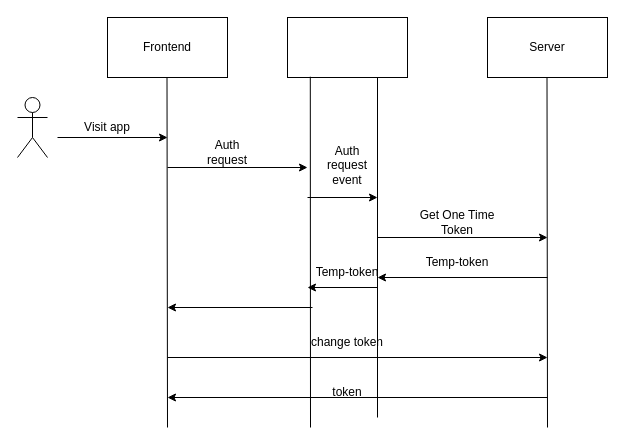
The diagram is 625 pixels wide and 446 high, and some of its shapes have lost their labels. The box of each missing label's shape, as (x1, y1, x2, y2) in pixels:
Actor: (16, 96, 48, 158)
Google ads: (286, 16, 408, 78)
